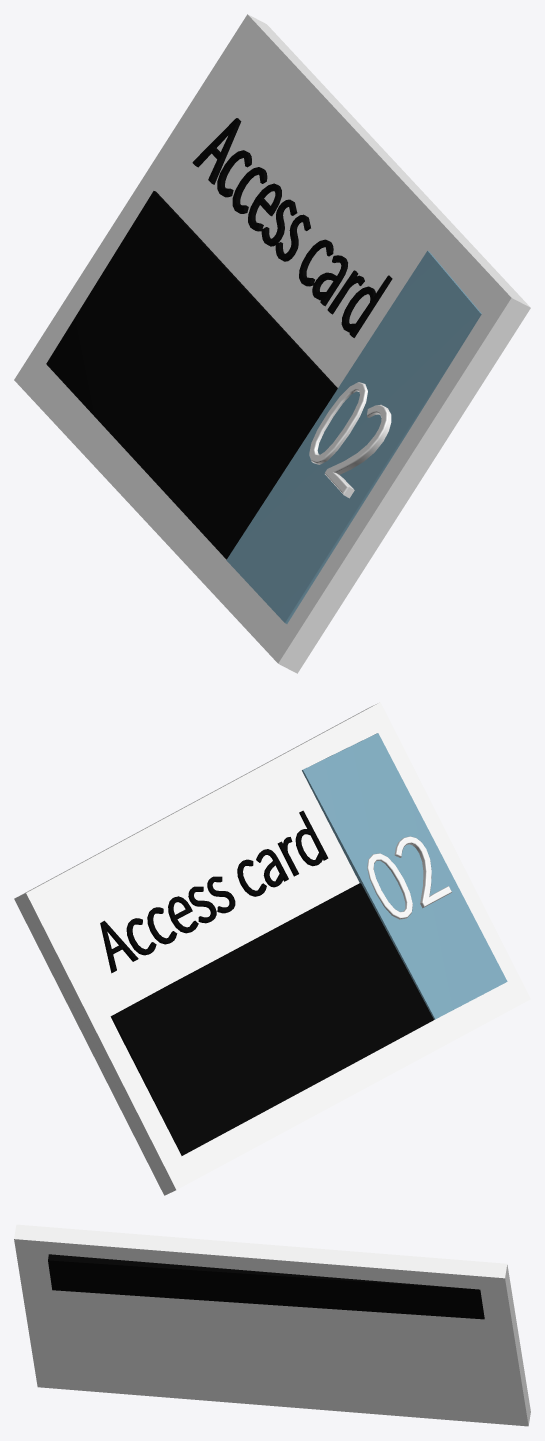
Rendered from Keycard Access L2.fbx.
3 views of the same model, one above another, from view 1: azimuth 30°, elevation 25°; view 2: azimuth 150°, elevation 25°; view 3: azimuth 270°, elevation 25° (orthographic). The views are drawn at different scales.
Visible parts, largest first — view 1: db26b0f8-8629-47cd-bccd-94c3ac038efa; view 2: db26b0f8-8629-47cd-bccd-94c3ac038efa; view 3: db26b0f8-8629-47cd-bccd-94c3ac038efa.
Boxes of the visible parts, x1,y1,x2,y2 form: db26b0f8-8629-47cd-bccd-94c3ac038efa: (14,14,530,673); db26b0f8-8629-47cd-bccd-94c3ac038efa: (14,702,530,1195); db26b0f8-8629-47cd-bccd-94c3ac038efa: (14,1224,530,1426).
Size of the model in its own units: 7260 by 7203 by 14445.
